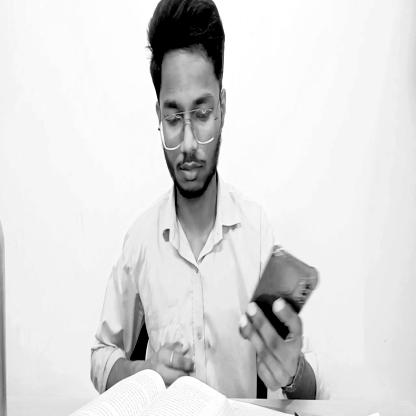Normal: (147, 3, 231, 202)
